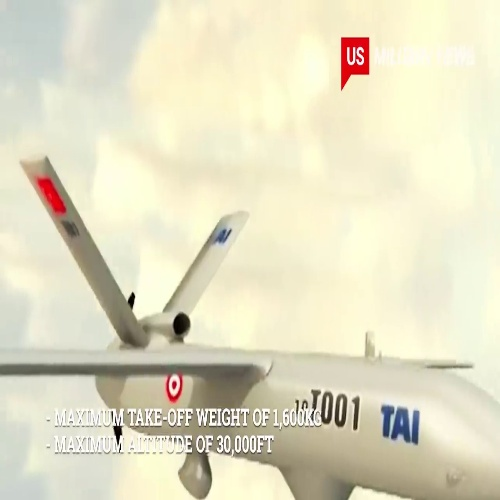uav: (8, 157, 497, 500)
